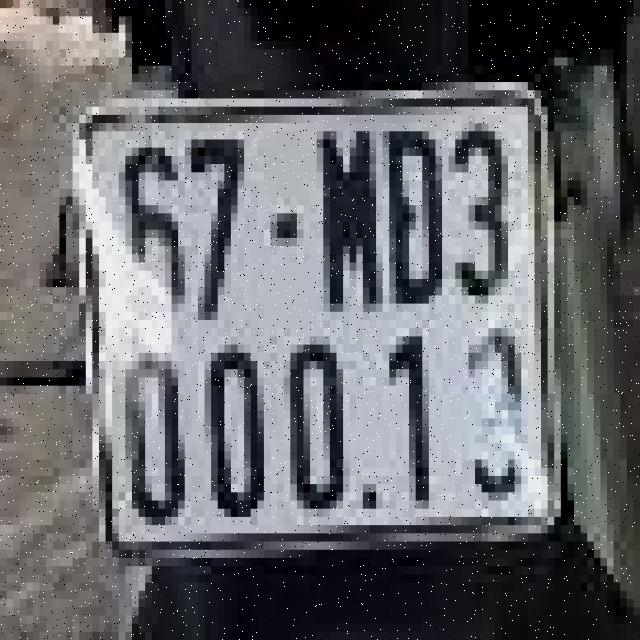0: (112, 345, 192, 525), (201, 332, 274, 521), (280, 336, 353, 517)
1: (389, 332, 449, 513)
3: (458, 324, 538, 505), (452, 106, 524, 304)
6: (116, 139, 188, 320)
7: (181, 131, 254, 320)
D: (386, 119, 452, 308)
M: (313, 119, 386, 316)
